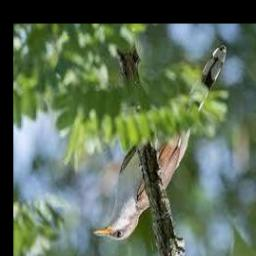Cuckoo: (92, 45, 226, 241)
